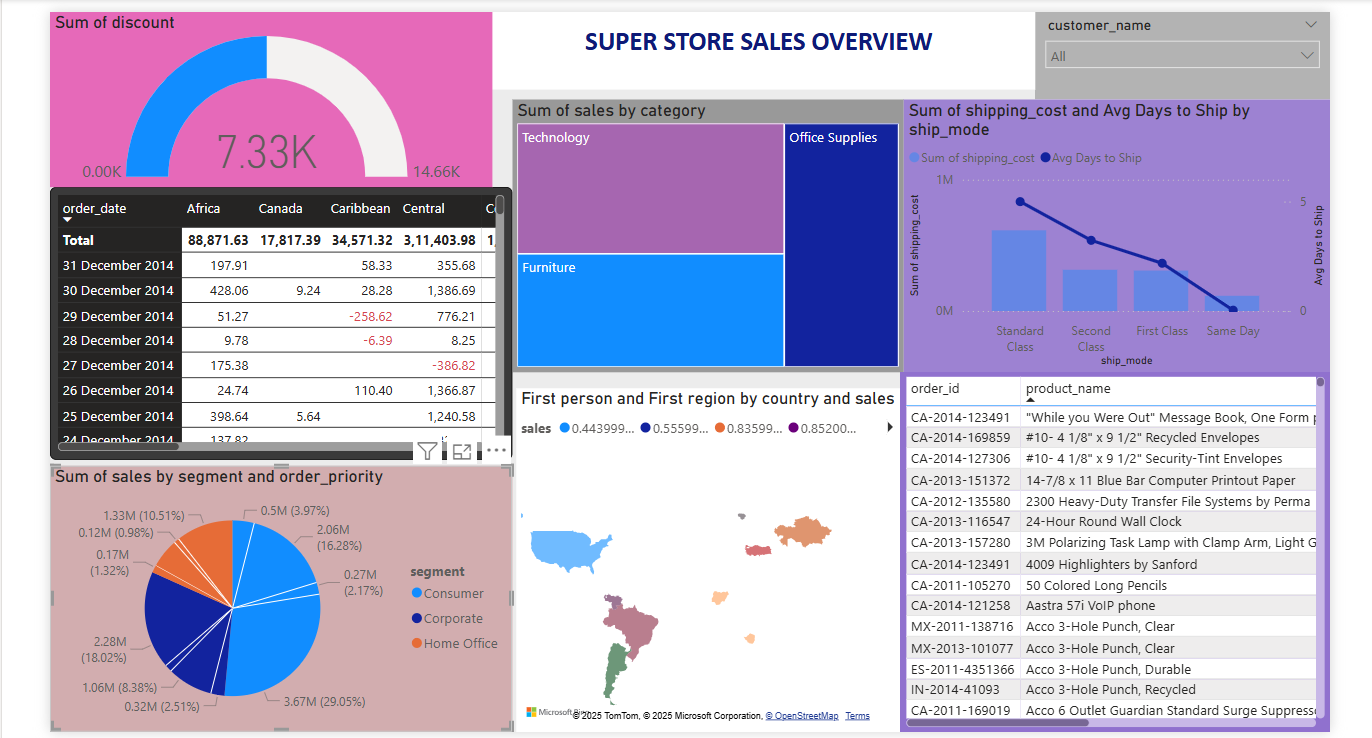

The page's visual inventory and layout, read from the dashboard file:
{"tool":"powerbi","page":{"name":"Page 1","canvas":[1280,720],"ordinal":0},"visuals":[{"type":"pivotTable","fields":{"Columns":["Orders.region"],"Values":["Sum(Orders.profit)"],"Rows":["Orders.order_date"]},"box":[0,175,462.5,272.5],"z":0},{"type":"slicer","fields":{"Values":["Orders.customer_name"]},"box":[985,0,295,87.5],"z":1000},{"type":"textbox","box":[432.5,0,552.5,77.5],"z":2000},{"type":"treemap","fields":{"Group":["Orders.category","Orders.sub_category","Orders.product_name"],"Values":["Sum(Orders.sales)"]},"box":[462.5,87.5,391.2,272.5],"z":3000},{"type":"lineClusteredColumnComboChart","fields":{"Category":["Orders.ship_mode"],"Y":["Sum(Orders.shipping_cost)"],"Y2":["Orders.Avg Days to Ship"]},"box":[853.8,87.5,426.2,272.5],"z":4000},{"type":"actionButton","box":[0,0,100,40],"z":5000},{"type":"pieChart","fields":{"Y":["Sum(Orders.sales)"],"Category":["Orders.segment"],"Series":["Orders.order_priority"]},"box":[0,453.8,462.5,266.2],"z":6000},{"type":"filledMap","fields":{"Category":["Orders.country","Orders.state"],"Series":["Orders.sales"]},"box":[466.2,376.2,383.8,343.8],"z":7000},{"type":"gauge","fields":{"Y":["Sum(Orders.discount)"]},"box":[0,0,442.5,175],"z":8000},{"type":"tableEx","fields":{"Values":["Orders.order_id","Orders.product_name","Orders.product_id","Returns.returns","Returns.market","People.person"]},"box":[850,360,430,360],"z":9000}]}

Visuals, with their boxes in screenshot pixels (x1, y1, x2, y2):
pivotTable - Orders.region x Sum(Orders.profit): 39/184/508/460
slicer - Orders.customer_name: 1037/7/1336/96
textbox: 477/7/1037/86
treemap - Orders.category x Orders.sub_category: 508/96/904/372
lineClusteredColumnComboChart - Orders.ship_mode x Sum(Orders.shipping_cost): 904/96/1336/372
actionButton: 39/7/141/48
pieChart - Sum(Orders.sales) x Orders.segment: 39/467/508/737
filledMap - Orders.country x Orders.state: 512/388/900/737
gauge - Sum(Orders.discount): 39/7/488/184
tableEx - Orders.order_id x Orders.product_name: 900/372/1336/737
